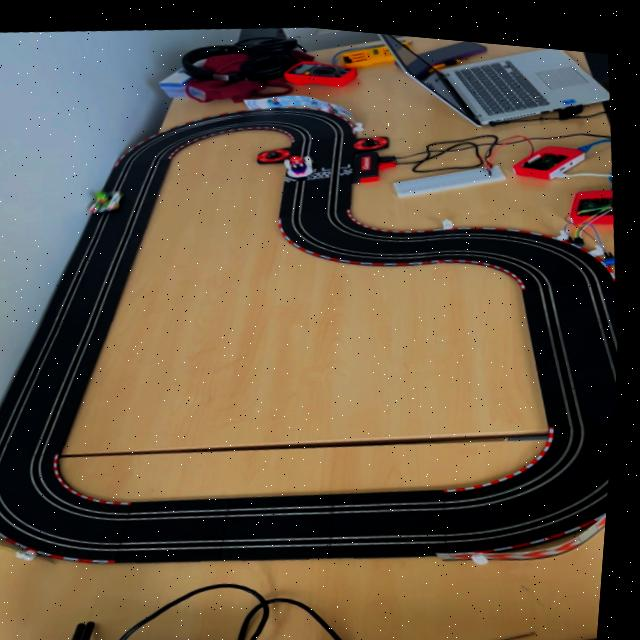mario: (283, 145, 319, 175)
yoshi: (86, 183, 132, 216)
